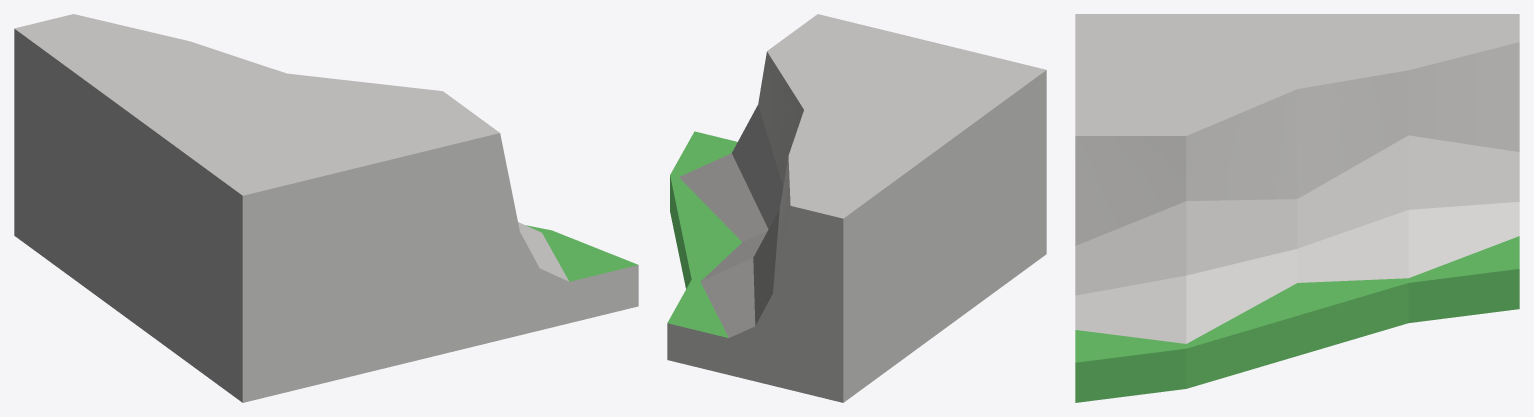
Rendered from Cliff_Base_Waterfall.glb.
3 renders of one model, left to right at view 1: azimuth 30°, elevation 25°; view 2: azimuth 150°, elevation 25°; view 3: azimuth 270°, elevation 25°, orthographic. The views are drawn at different scales.
Visible parts, largest first — view 1: object1; view 2: object1; view 3: object1.
Boxes of the visible parts, x1=… form: object1: x1=14, y1=14, x2=638, y2=402; object1: x1=667, y1=14, x2=1046, y2=402; object1: x1=1075, y1=14, x2=1519, y2=402.
Bounding box in the file's own units: 2 × 1 × 2.
